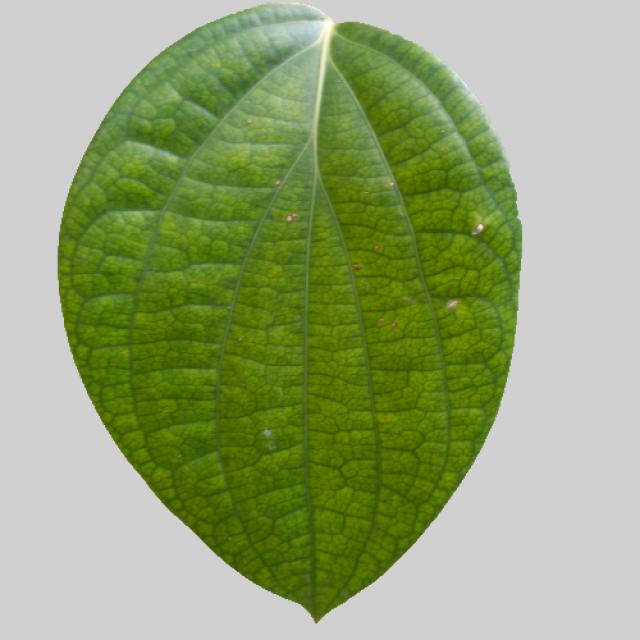healthy: (55, 3, 521, 629)
